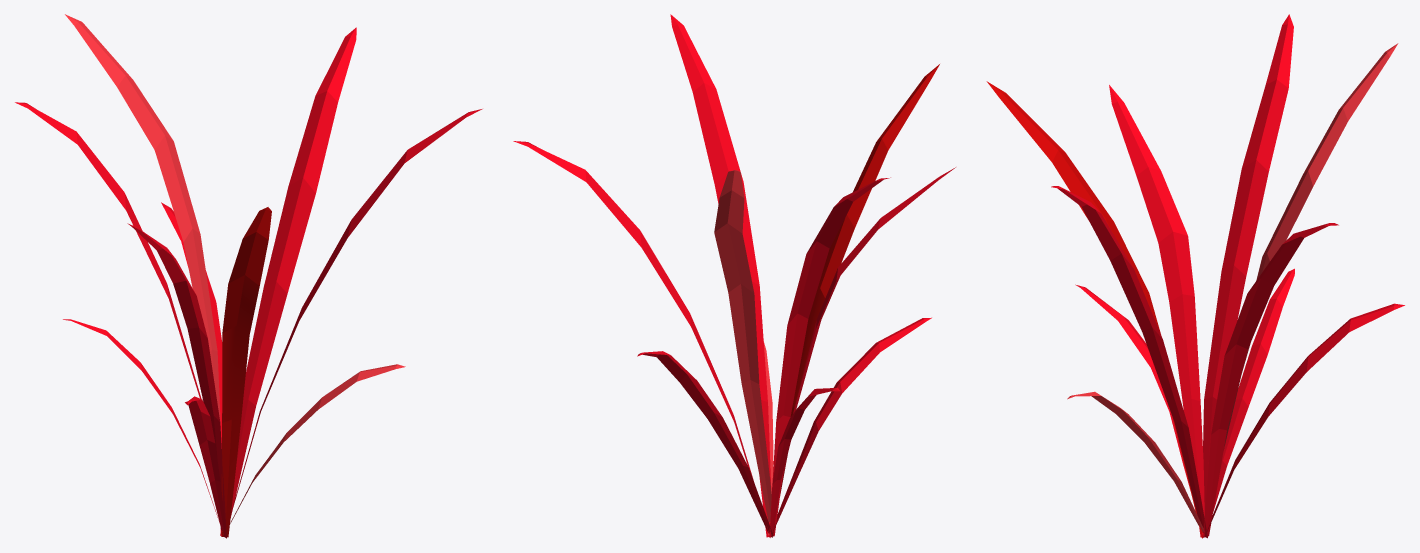
The model's file is redplant.glb.
The picture shows the model from 3 angles, left to right: view 1: azimuth 30°, elevation 25°; view 2: azimuth 150°, elevation 25°; view 3: azimuth 270°, elevation 25°; orthographic projection. The views are drawn at different scales.
Visible parts, largest first — view 1: PlantRed_005.006; view 2: PlantRed_005.006; view 3: PlantRed_005.006.
Boxes of the visible parts, <box> form: PlantRed_005.006: <box>15,14,482,538</box>; PlantRed_005.006: <box>513,14,955,537</box>; PlantRed_005.006: <box>986,14,1404,538</box>.
Bounding box in the file's own units: 1.32 × 1.6 × 1.31.
Materials: 1 (1 with a texture image).
